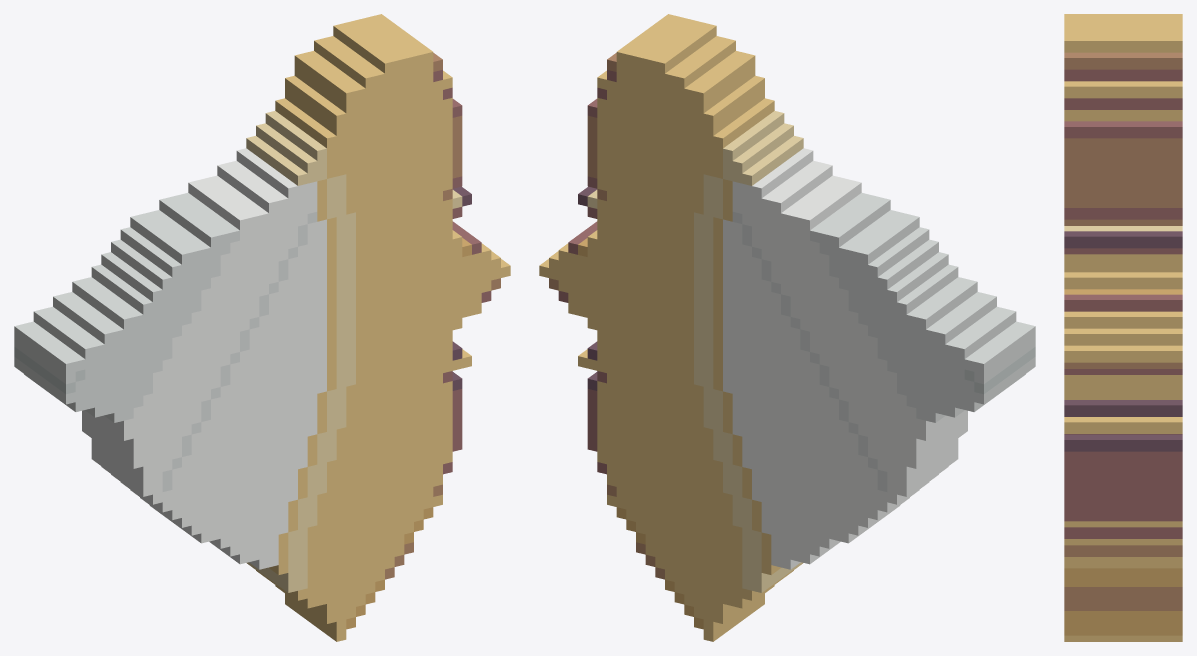
Rendered from mirror shard 3.fbx.
3 views of the same model, side by side, from view 1: azimuth 30°, elevation 25°; view 2: azimuth 150°, elevation 25°; view 3: azimuth 270°, elevation 25° (orthographic). The views are drawn at different scales.
Parts seen in each view (by area): view 1: mirror shard 3.png; view 2: mirror shard 3.png; view 3: mirror shard 3.png.
Boxes of the visible parts, left/top/right/bottom form: mirror shard 3.png: left=14, top=14, right=510, bottom=641; mirror shard 3.png: left=539, top=14, right=1035, bottom=641; mirror shard 3.png: left=1064, top=14, right=1182, bottom=641.
Size of the model in its own units: 24.82 by 30.22 by 5.
